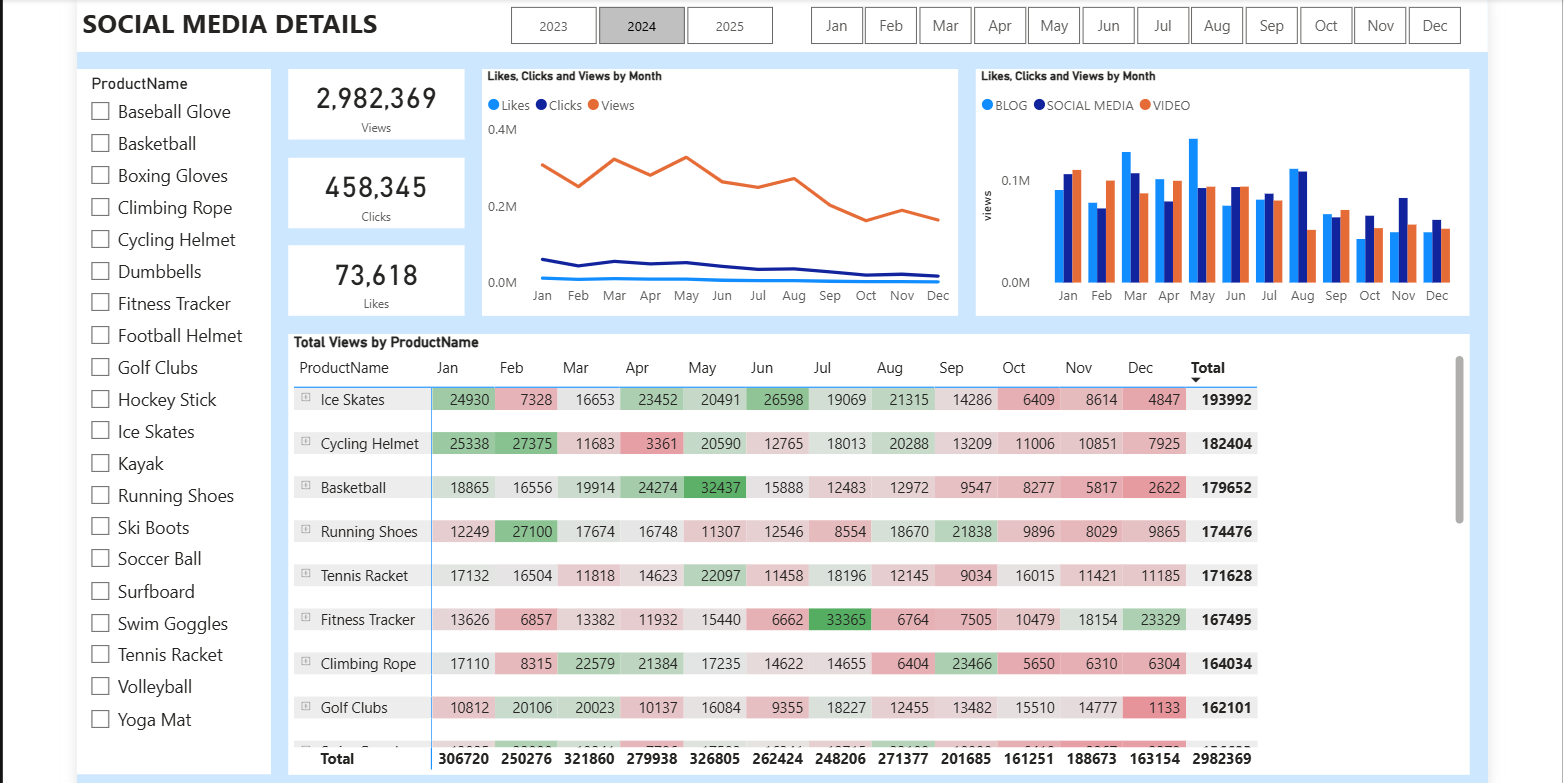

The dashboard page shown, as its layout file describes it:
{"tool":"powerbi","page":{"name":"SOCIAL MEDIA DETAILS","canvas":[1280,720],"ordinal":2},"visuals":[{"type":"textbox","box":[0,0,1280,48],"z":0},{"type":"slicer","fields":{"Values":["dim_products.ProductName"]},"box":[0,64,176,640],"z":1000},{"type":"card","fields":{"Values":["Calculations.Views"]},"box":[192,64,160,64],"z":2000},{"type":"card","fields":{"Values":["Calculations.Clicks"]},"box":[192,144,160,64],"z":3000},{"type":"card","fields":{"Values":["Calculations.Likes"]},"box":[192,224,160,64],"z":4000},{"type":"slicer","fields":{"Values":["Calender.Year"]},"box":[368,0,288,48],"z":5000},{"type":"slicer","fields":{"Values":["Calender.MonthNameShort"]},"box":[640,0,640,48],"z":6000},{"type":"lineChart","title":"Likes, Clicks and Views by Month","fields":{"Category":["Calender.MonthNameShort"],"Y":["Calculations.Likes","Calculations.Clicks","Calculations.Views"]},"box":[368,64,432,224],"z":7000},{"type":"clusteredColumnChart","title":"Likes, Clicks and Views by Month","fields":{"Category":["Calender.MonthNameShort"],"Y":["Sum(fact_engagement_data.Views)"],"Series":["fact_engagement_data.ContentType"]},"box":[816,64,448,224],"z":8000},{"type":"pivotTable","title":"Total Views by ProductName","fields":{"Rows":["dim_products.ProductName","fact_engagement_data.ContentType"],"Columns":["Calender.MonthNameShort"],"Values":["Sum(fact_engagement_data.Views)"]},"box":[192,304,1072,400],"z":9000}]}

Visuals, with their boxes on the page's 1280x720 design canvas (x1, y1, x2, y2). These are canvas units, not pixel positions in the 1564x783 screenshot, which may show the page scaled, cropped or inside an application window:
textbox: <bbox>0, 0, 1280, 48</bbox>
slicer - dim_products.ProductName: <bbox>0, 64, 176, 704</bbox>
card - Calculations.Views: <bbox>192, 64, 352, 128</bbox>
card - Calculations.Clicks: <bbox>192, 144, 352, 208</bbox>
card - Calculations.Likes: <bbox>192, 224, 352, 288</bbox>
slicer - Calender.Year: <bbox>368, 0, 656, 48</bbox>
slicer - Calender.MonthNameShort: <bbox>640, 0, 1280, 48</bbox>
"Likes, Clicks and Views by Month" lineChart: <bbox>368, 64, 800, 288</bbox>
"Likes, Clicks and Views by Month" clusteredColumnChart: <bbox>816, 64, 1264, 288</bbox>
"Total Views by ProductName" pivotTable: <bbox>192, 304, 1264, 704</bbox>
